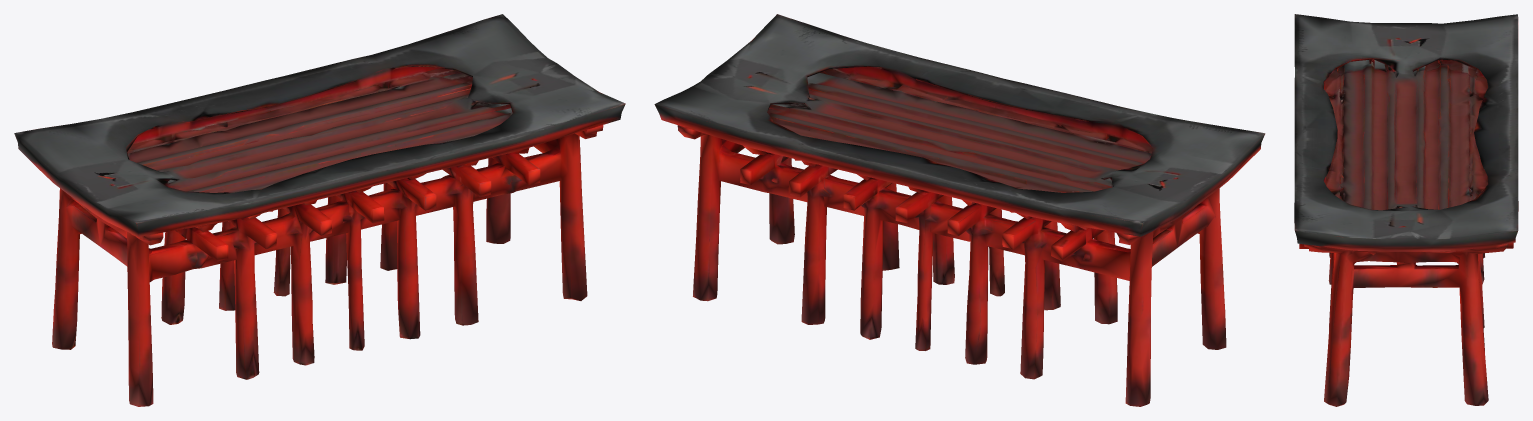
The model's file is torii-row-optimized.glb.
The picture shows the model from 3 angles, left to right: view 1: azimuth 30°, elevation 25°; view 2: azimuth 150°, elevation 25°; view 3: azimuth 270°, elevation 25°; orthographic projection. The views are drawn at different scales.
Bounding box in the file's own units: 1.92 × 0.7598 × 0.8382.
1 material, 1 textured.
